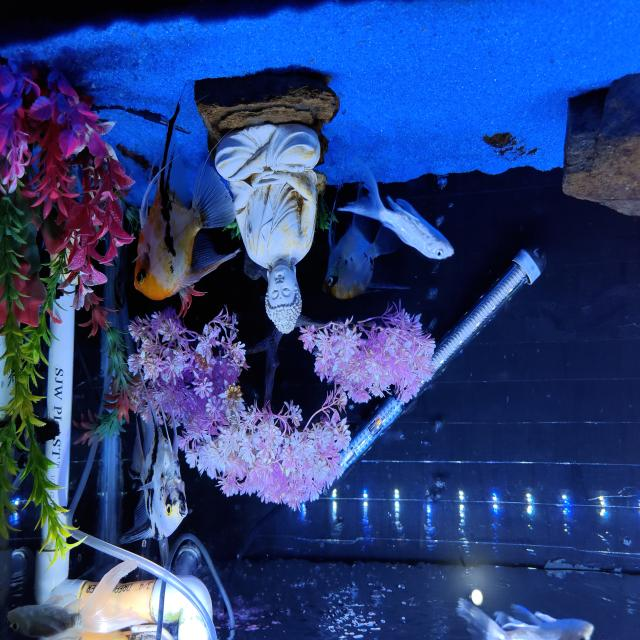Fish: (134, 103, 238, 299), (338, 162, 453, 258), (7, 560, 145, 639), (120, 406, 186, 542), (322, 214, 399, 298), (456, 598, 593, 639)
